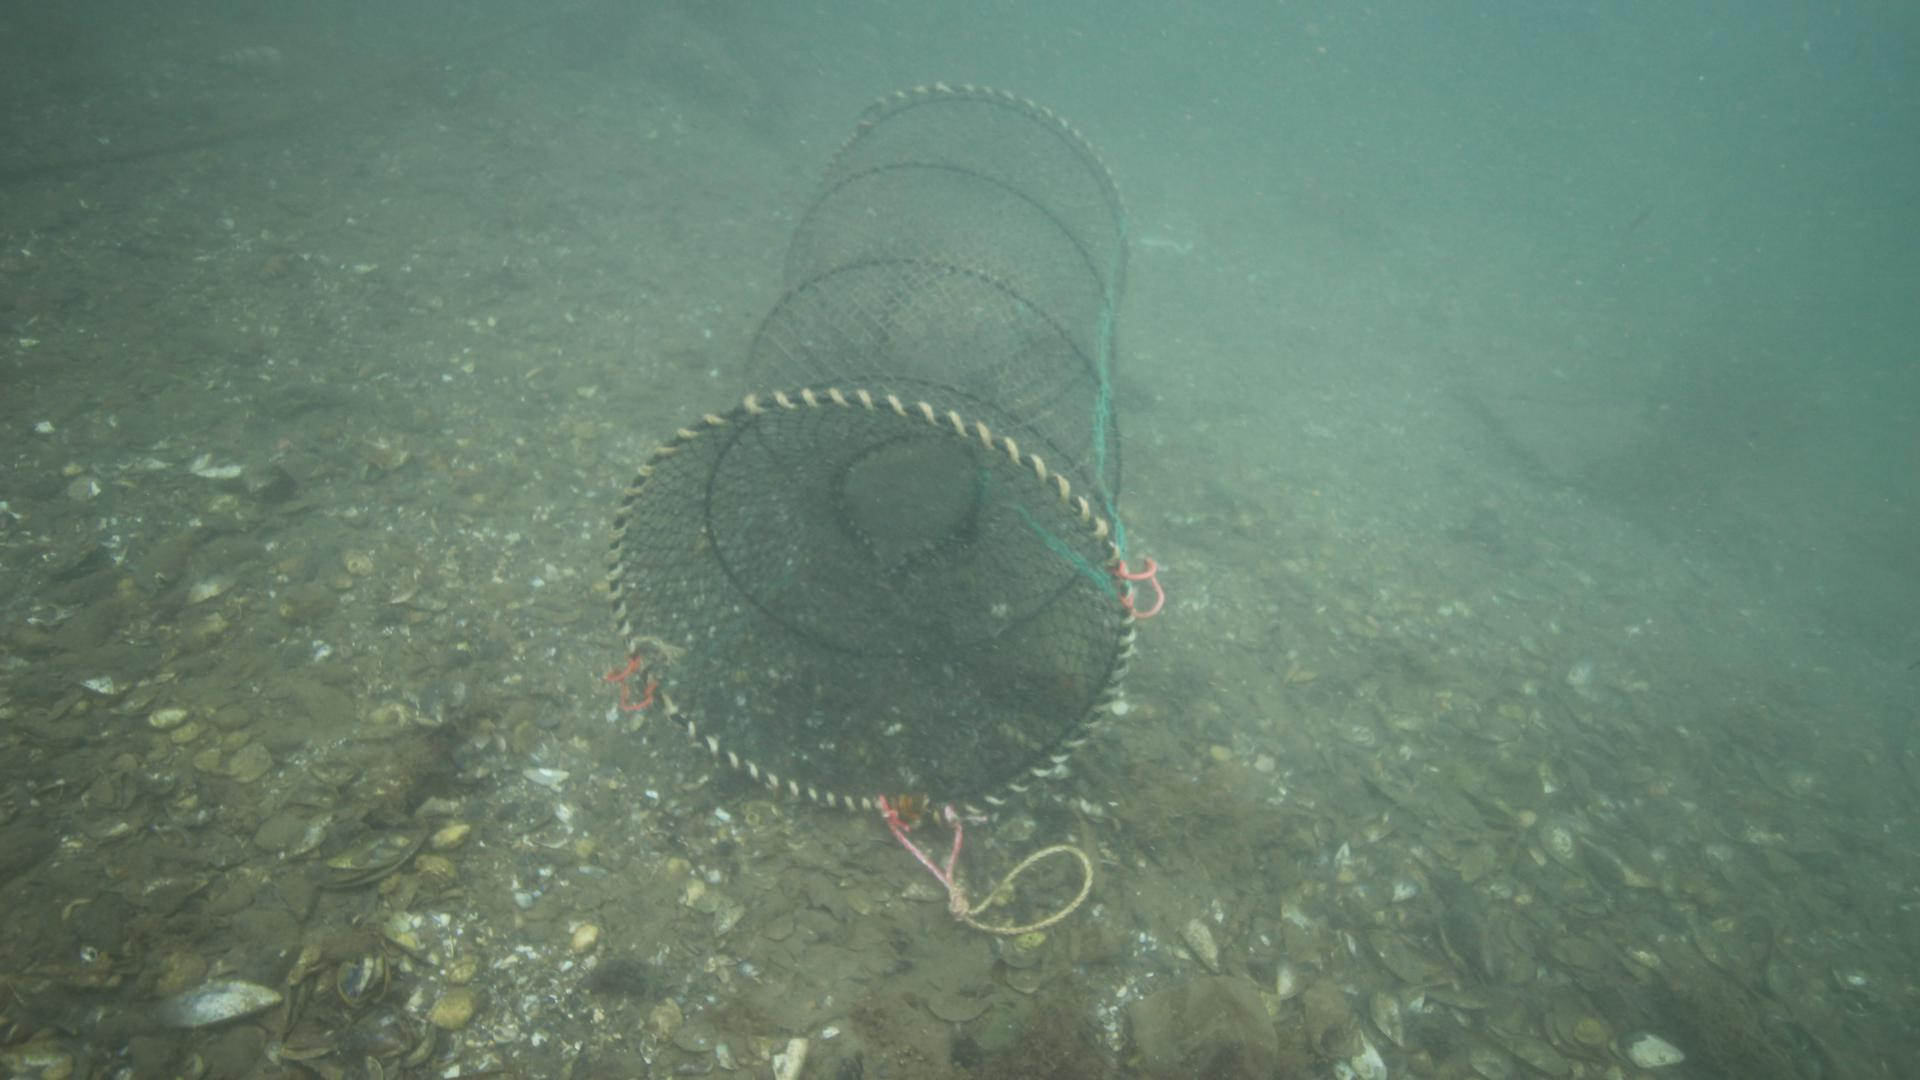bundle of ropes: (882, 808, 1096, 938)
spring fish trap: (603, 78, 1135, 822)
